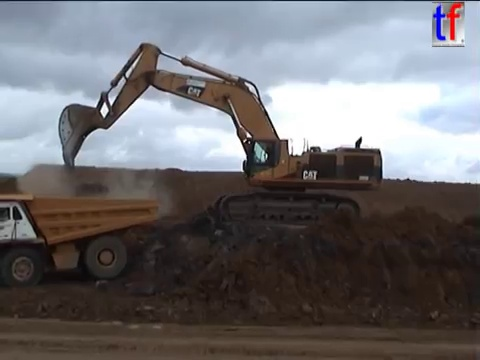excavator: (55, 40, 385, 231), (1, 189, 161, 292)
